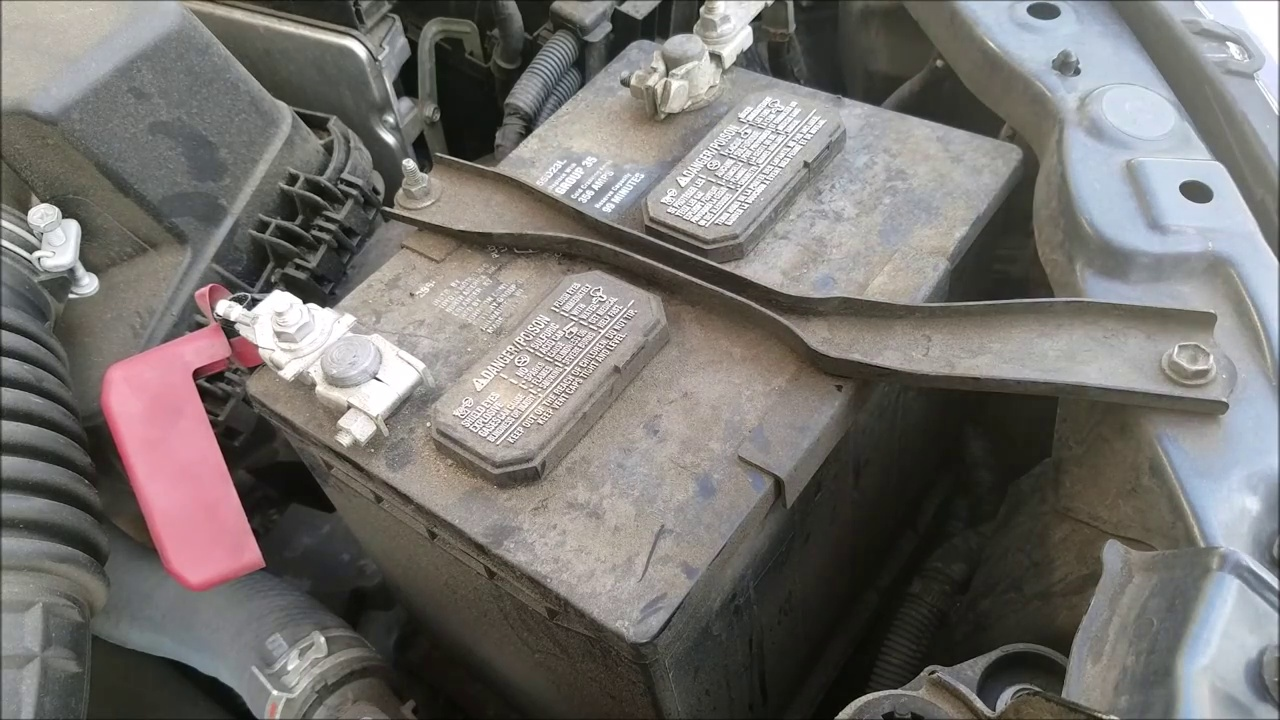battery: (226, 7, 1028, 649)
neg_connected: (605, 5, 788, 139)
pos_connected: (119, 258, 434, 474)
